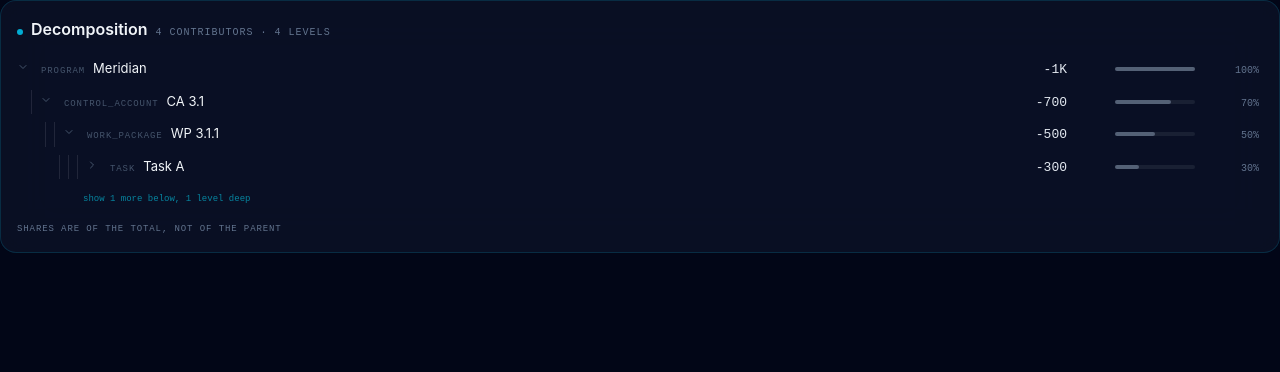
Test: the share is of the ROOT and the card says so › tells the reader the shares are of the TOTAL, and the inspector repeats it per node
The width and height of the screenshot is (1280, 372).
Expected: the text "shares are of the TOTAL, not of the parent" is shown, top-left (17, 224), bottom-right (282, 234)
Note: And per node, on demand.
Click the button "program Meridian -1K 100%" at (63, 71), box top-left (37, 57), bottom-right (1263, 82)
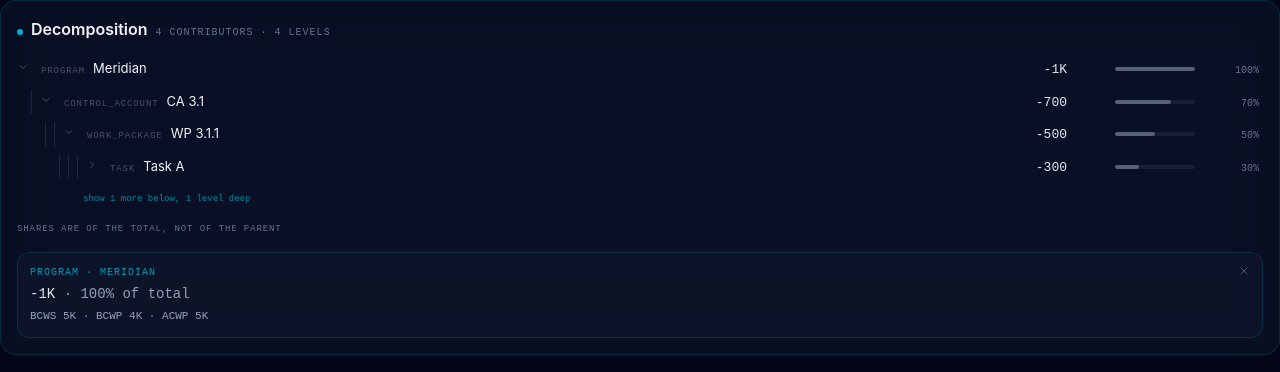
Now the text "· 100% of total" is shown, box top-left (55, 286), bottom-right (190, 302)
